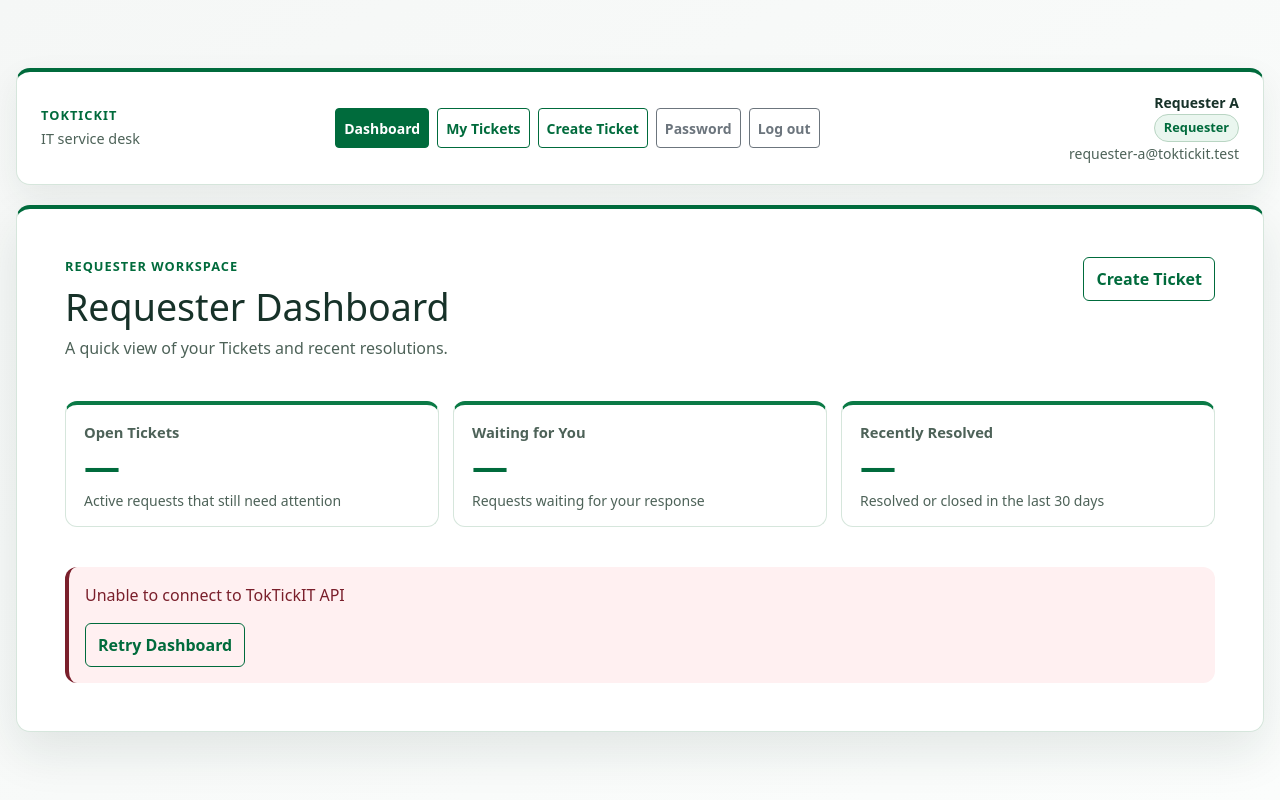
Test case: Lab 3 Zen Green requester regression › exposes the approved tokens and accessible shared control states
Click the button "Create Ticket" in the row of "IT service desk" at (593, 128), box left=538, top=108, right=648, bottom=148
(page scrolled)
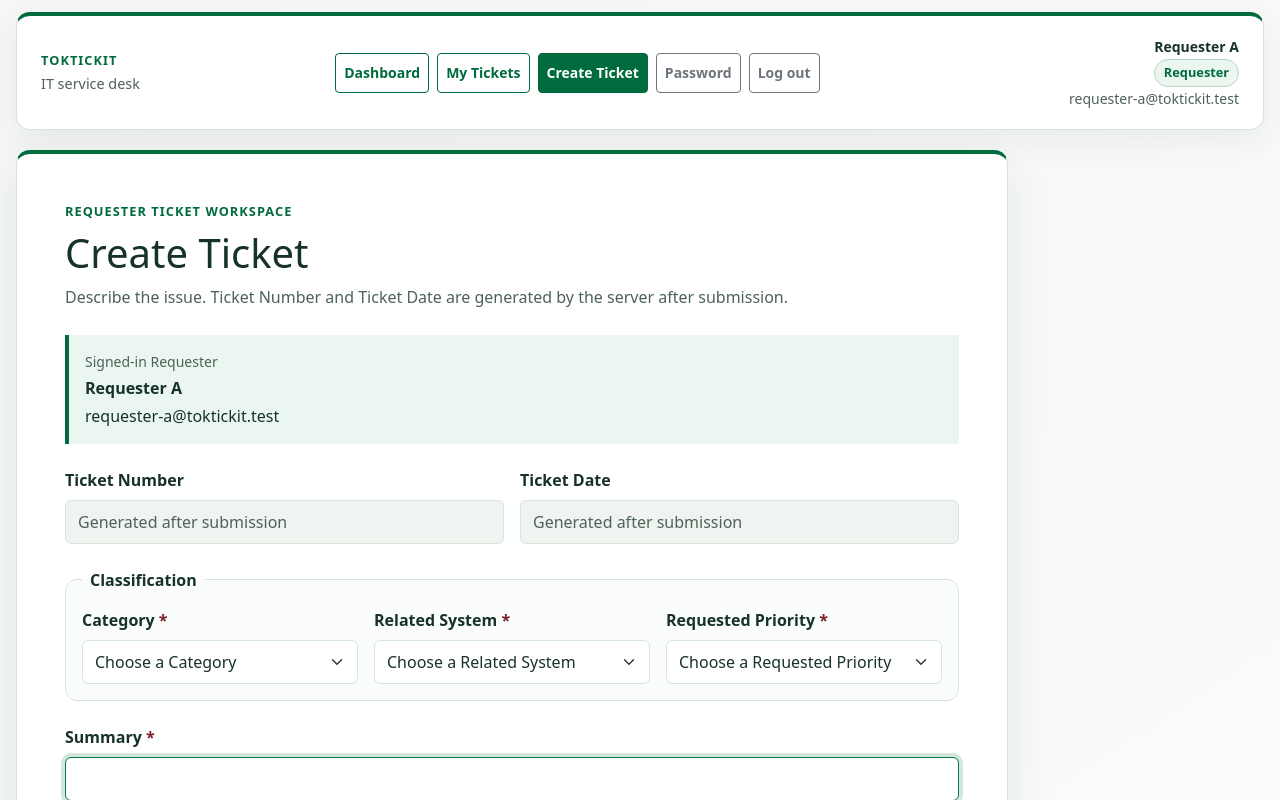
Expected: the heading "Create Ticket" is shown, left=65, top=225, right=308, bottom=280
Expected: the dropdown labelled "Category" is shown, left=82, top=640, right=358, bottom=684
Expected: the text "*" next to "Category" is shown, left=159, top=609, right=168, bottom=631
